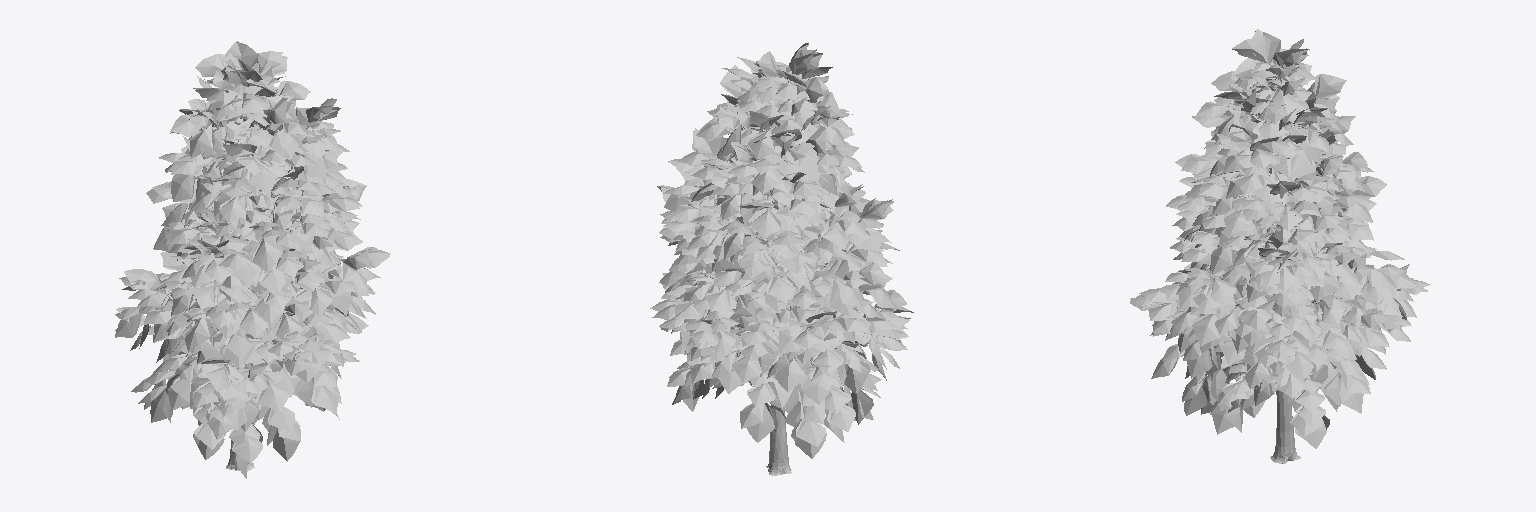
File: tree.obj
3 renders of one model, left to right at view 1: azimuth 30°, elevation 25°; view 2: azimuth 150°, elevation 25°; view 3: azimuth 270°, elevation 25°, orthographic.
Parts seen in each view (by area): view 1: Tree; view 2: Tree; view 3: Tree.
Boxes of the visible parts, x1,y1,x2,y2 form: Tree: [115, 41, 390, 478]; Tree: [650, 43, 913, 475]; Tree: [1130, 29, 1430, 463].
Bounding box in the file's own units: 4.24 × 7.59 × 4.99.